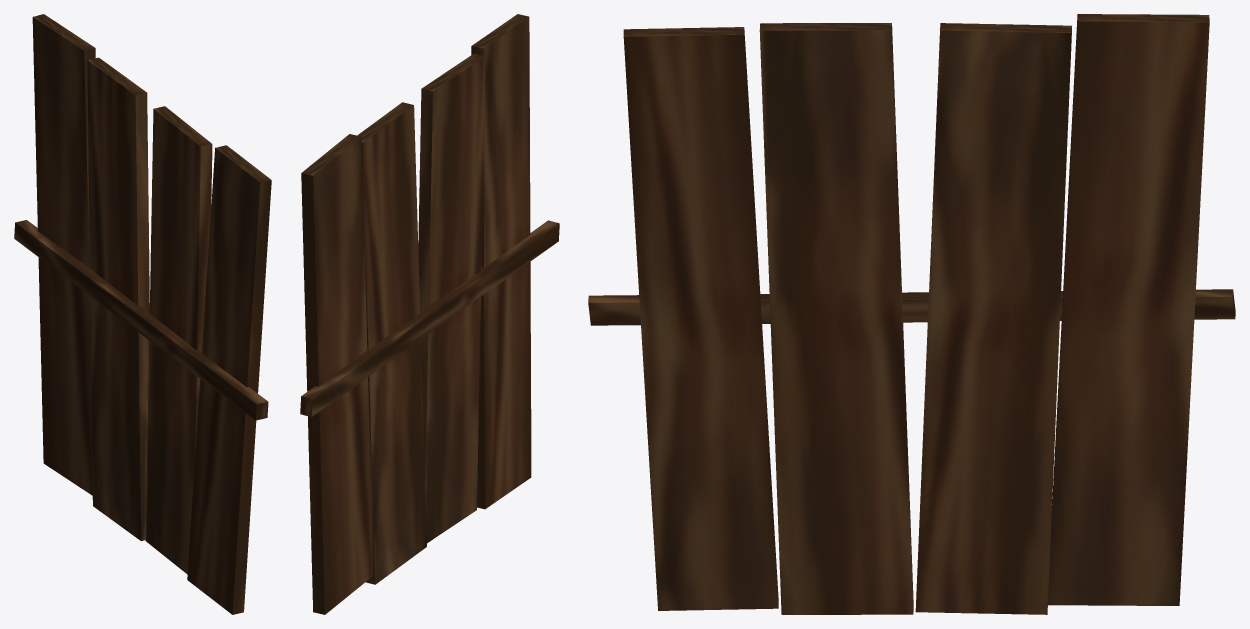
Rendered from Cerca1.fbx.
3 views of the same model, side by side, from view 1: azimuth 30°, elevation 25°; view 2: azimuth 150°, elevation 25°; view 3: azimuth 270°, elevation 25° (orthographic). The views are drawn at different scales.
Visible parts, largest first — view 1: Fence; view 2: Fence; view 3: Fence.
Boxes of the visible parts, bbox=[...] form: Fence: bbox=[14, 14, 271, 614]; Fence: bbox=[300, 14, 559, 614]; Fence: bbox=[588, 14, 1235, 614].
Size of the model in its own units: 12.67 by 192 by 189.
